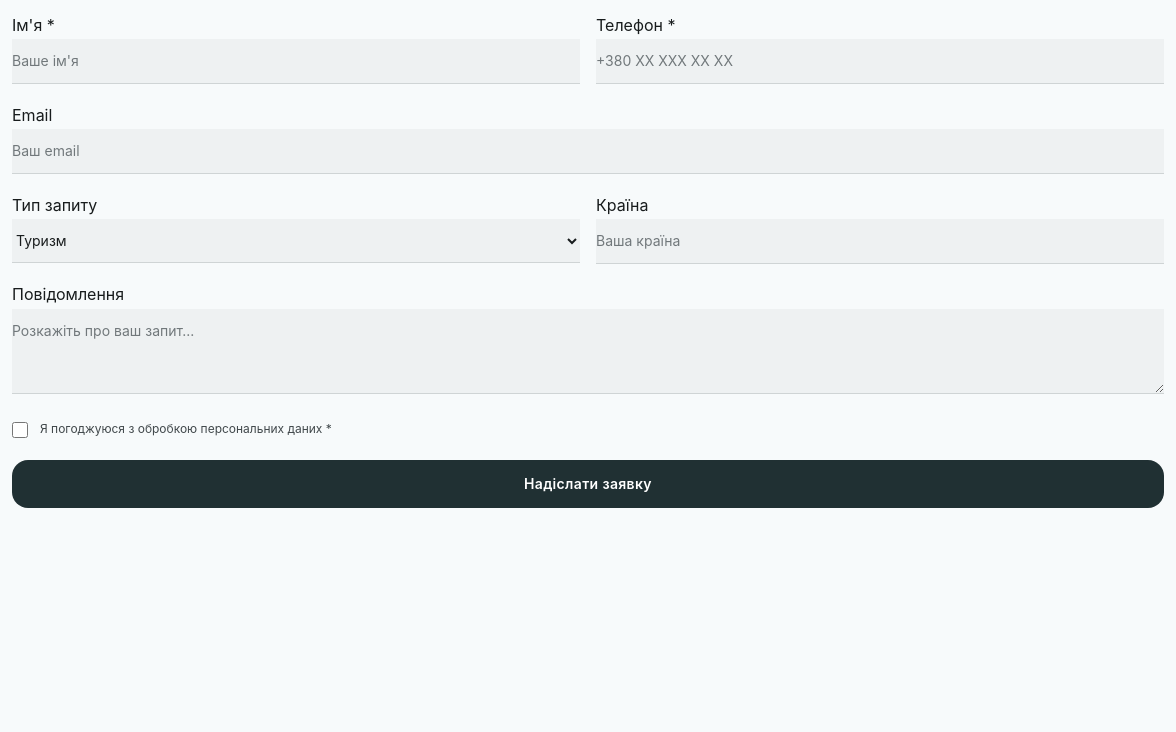
Scenario: LeadForm › shows success message after valid submission
The width and height of the screenshot is (1176, 732).
In the field with placeholder "Ваше ім'я": (296, 62) [12, 39, 580, 84], type "Іван"
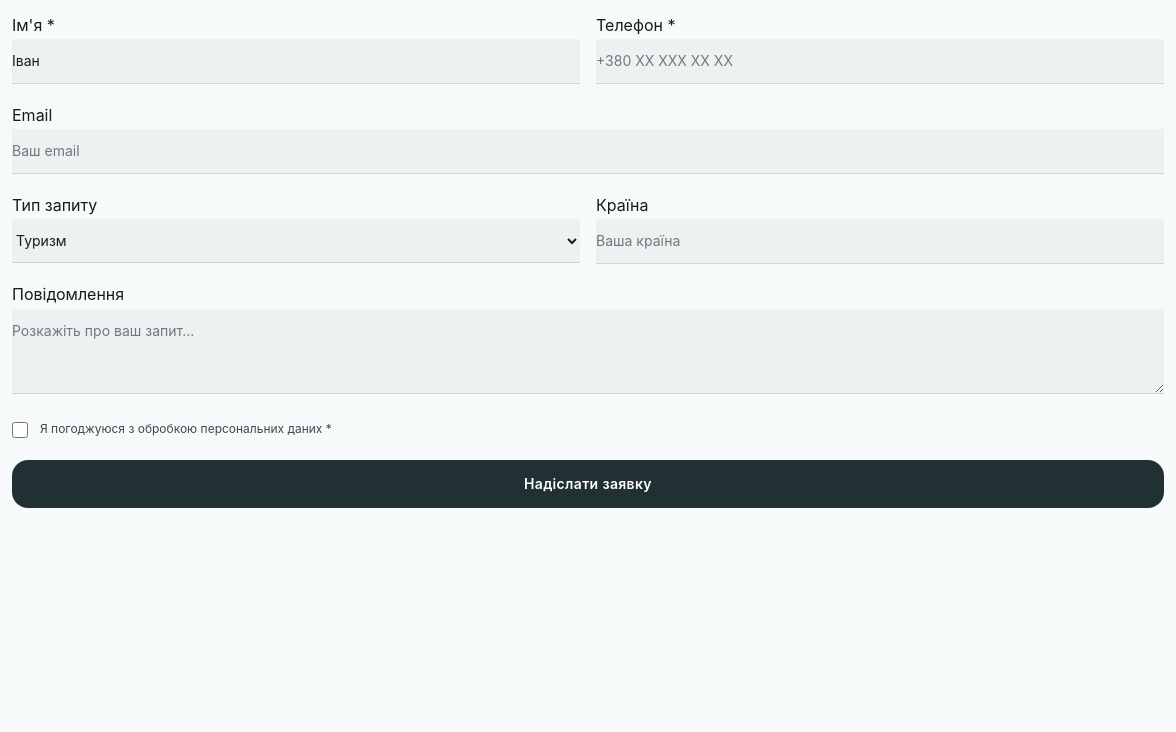
In the field with placeholder "+380 XX XXX XX XX": (880, 62) [596, 39, 1164, 84], type "+380991234567"
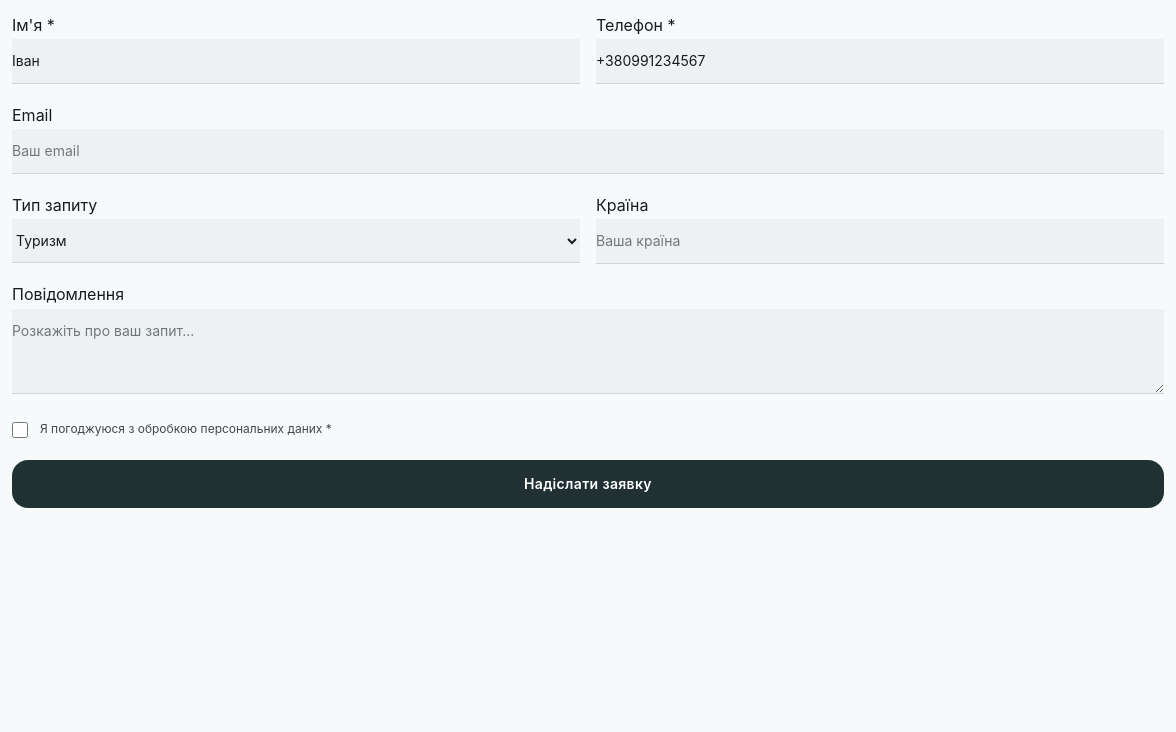
Click the checkbox labelled "Я погоджуюся з обробкою персональних даних *": (20, 430) [12, 422, 28, 438]
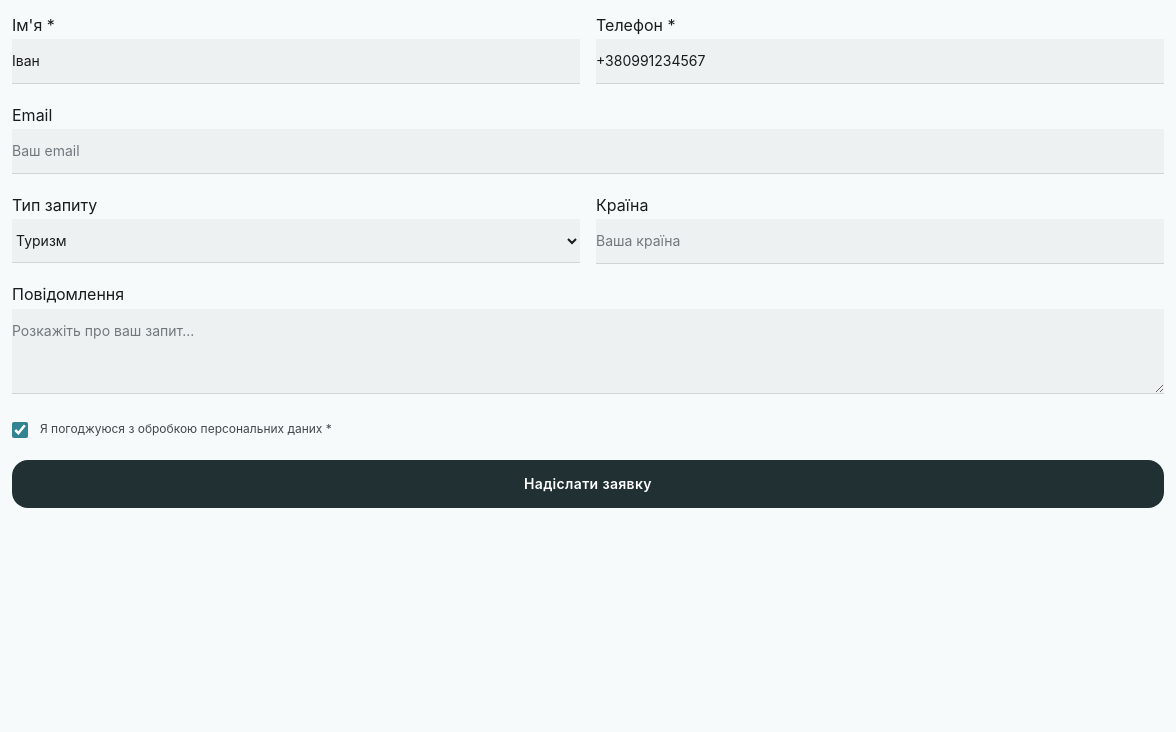
Click the button "Надіслати заявку": (588, 484) [12, 460, 1164, 508]
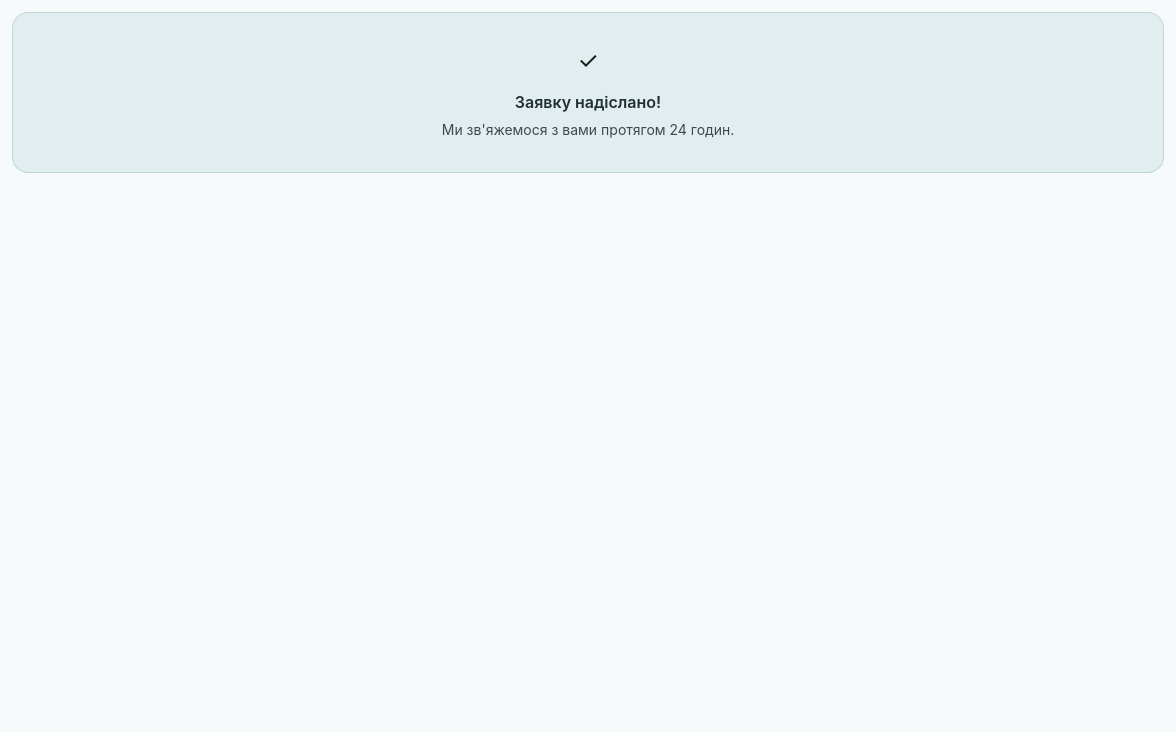
expect the text "Заявку надіслано!" is shown: met, box [515, 92, 661, 112]
